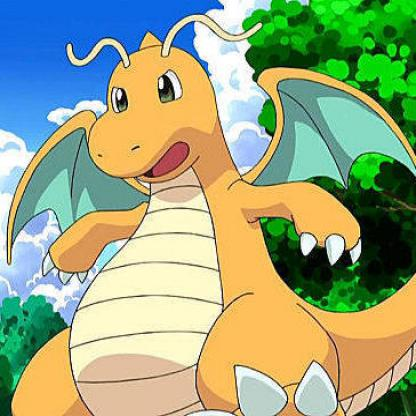Dragonite: (1, 22, 416, 416)
